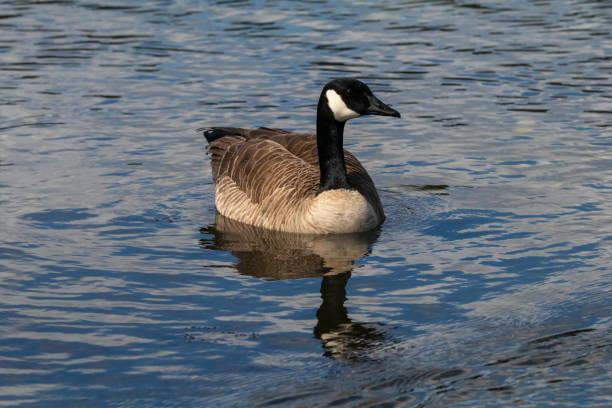Canadian-Goose: (200, 76, 405, 238)
